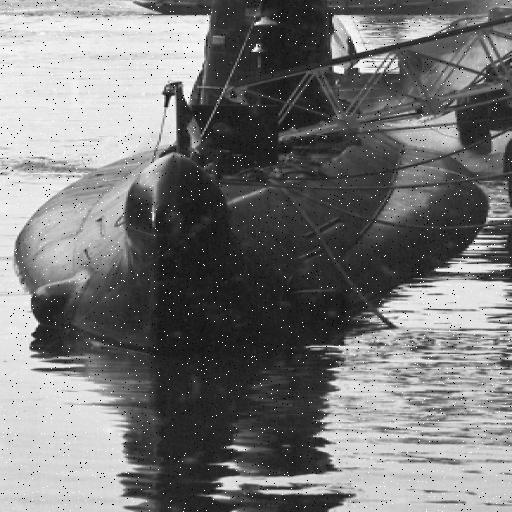submarine: (7, 1, 492, 357)
